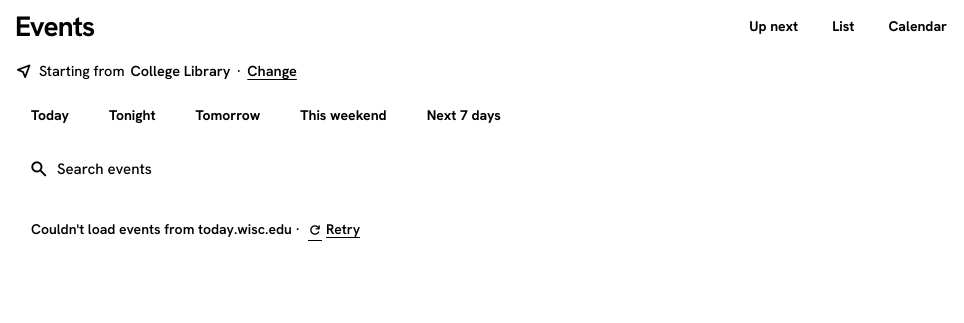
EventsPage › shows a feed error with Retry and keeps the controls usable
Expected: the text "Couldn't load events from today.wisc.edu ·" is shown, [31,219,300,240]
Expected: the search field labelled "Search events" is enabled, [57,149,361,189]
What coordinates should you click on to do the following:
click the button "Retry"
I would click on:
 (334, 230)
Its box is [304,212,364,248].
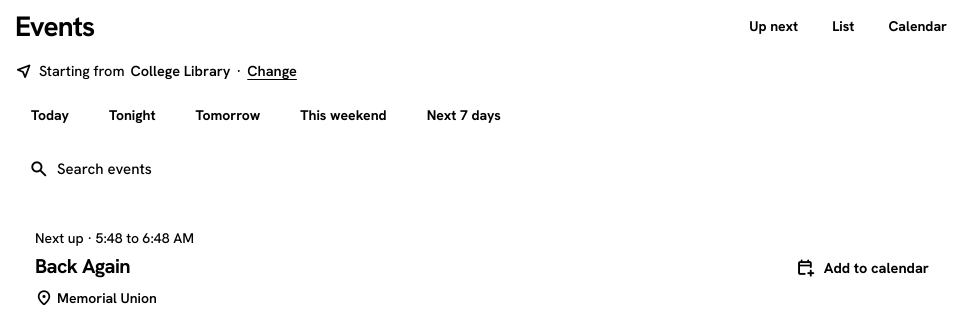
Result: the button "Back Again" is shown at [35,255,130,278]
